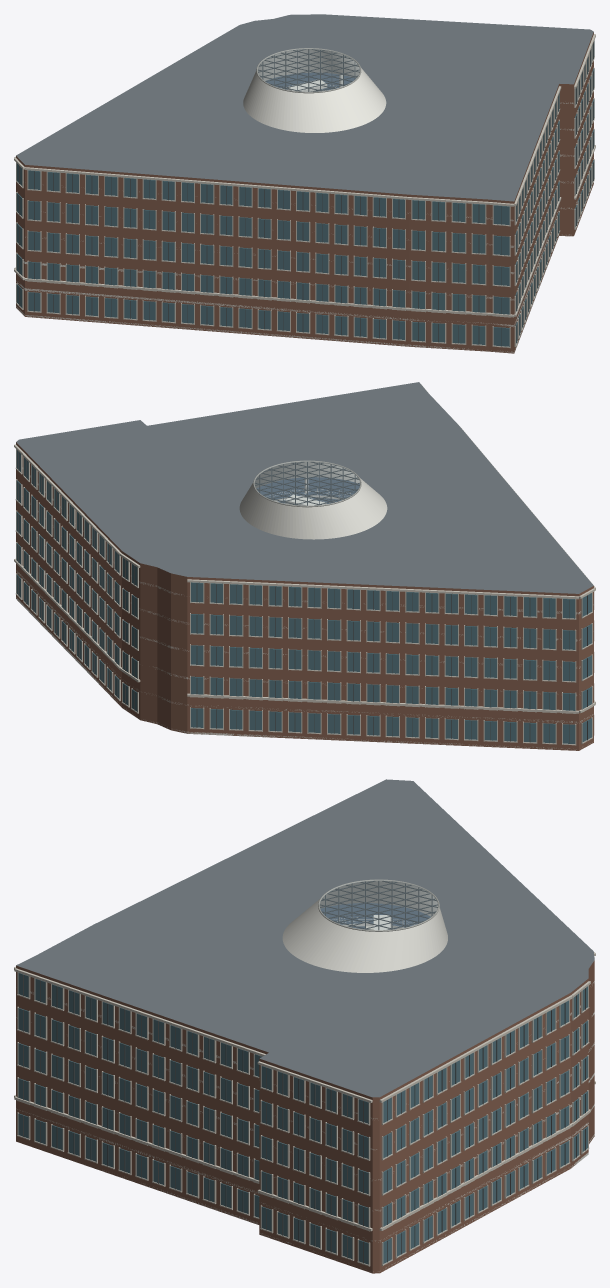
File: lrb-exterior-4070f3d9ad39.glb
3 views of the same model, one above another, from view 1: azimuth 30°, elevation 25°; view 2: azimuth 150°, elevation 25°; view 3: azimuth 270°, elevation 25° (orthographic). The views are drawn at different scales.
Parts seen in each view (by area): view 1: LRB.001; view 2: LRB.001; view 3: LRB.001.
Boxes of the visible parts, box(x1,y1,x2,y2) form: LRB.001: box(14, 14, 595, 353); LRB.001: box(14, 382, 595, 750); LRB.001: box(14, 779, 595, 1273).
Size of the model in its own units: 89.59 by 27.34 by 68.9.
